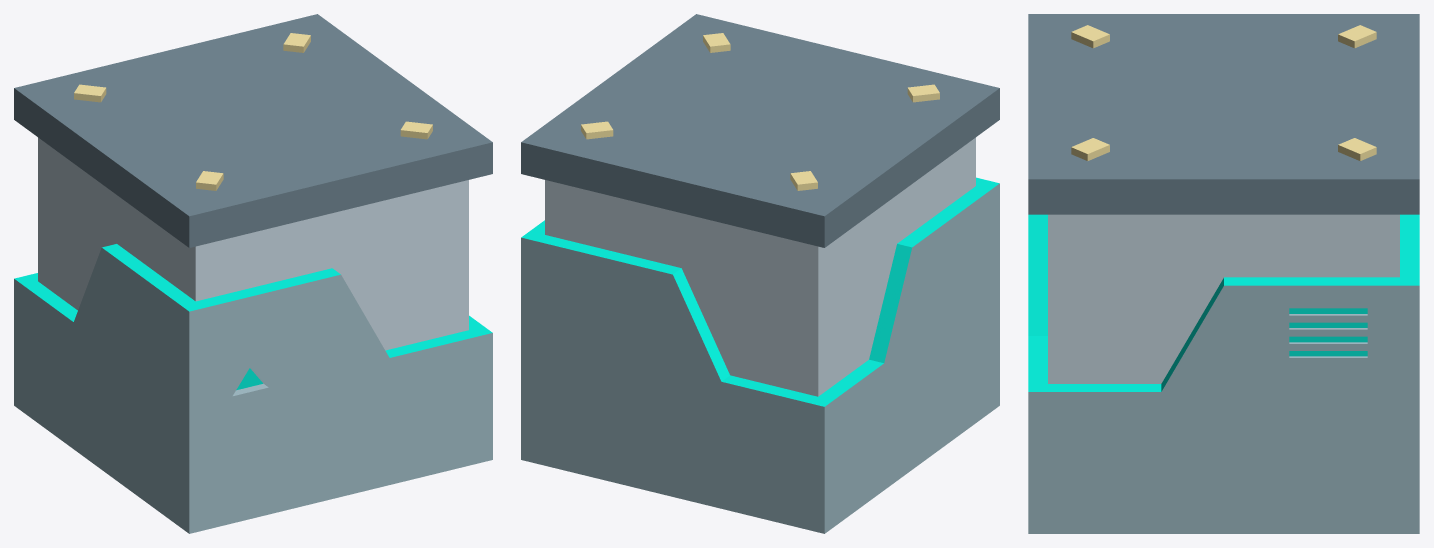
3 renders of one model, left to right at view 1: azimuth 30°, elevation 25°; view 2: azimuth 150°, elevation 25°; view 3: azimuth 270°, elevation 25°, orthographic. The views are drawn at different scales.
Parts seen in each view (by area): view 1: box-a-02; view 2: box-a-02; view 3: box-a-02.
Part boxes in pixels (<box>): box-a-02: <box>14,14,492,533</box>; box-a-02: <box>521,14,999,533</box>; box-a-02: <box>1028,14,1419,533</box>.
Size of the model in its own units: 100 by 102 by 100.
